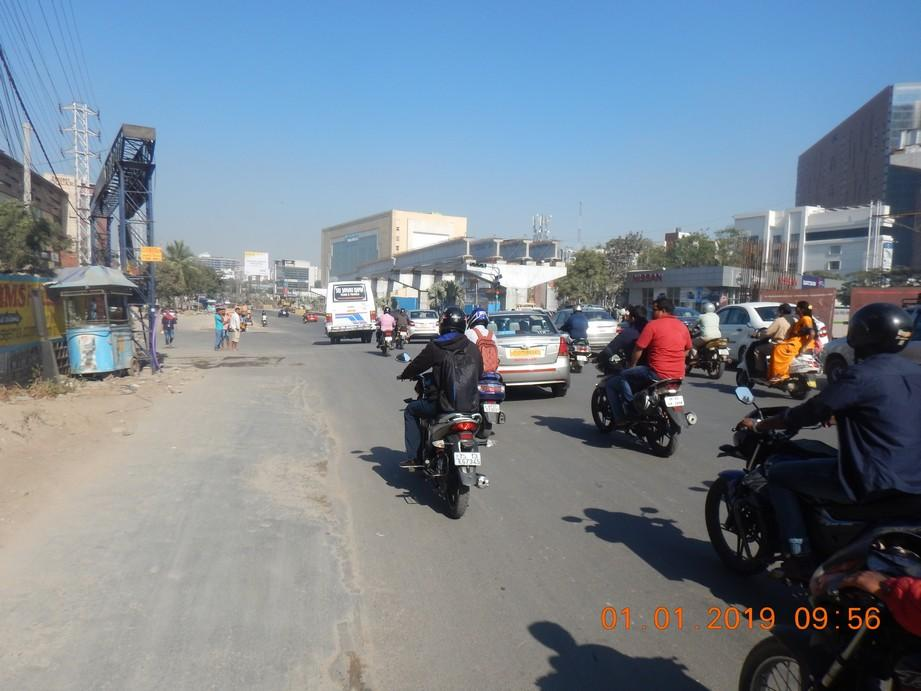plate: (452, 451, 483, 468)
